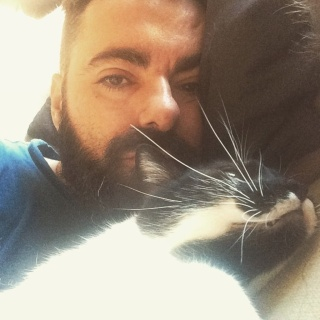Cat: (0, 93, 319, 319)
